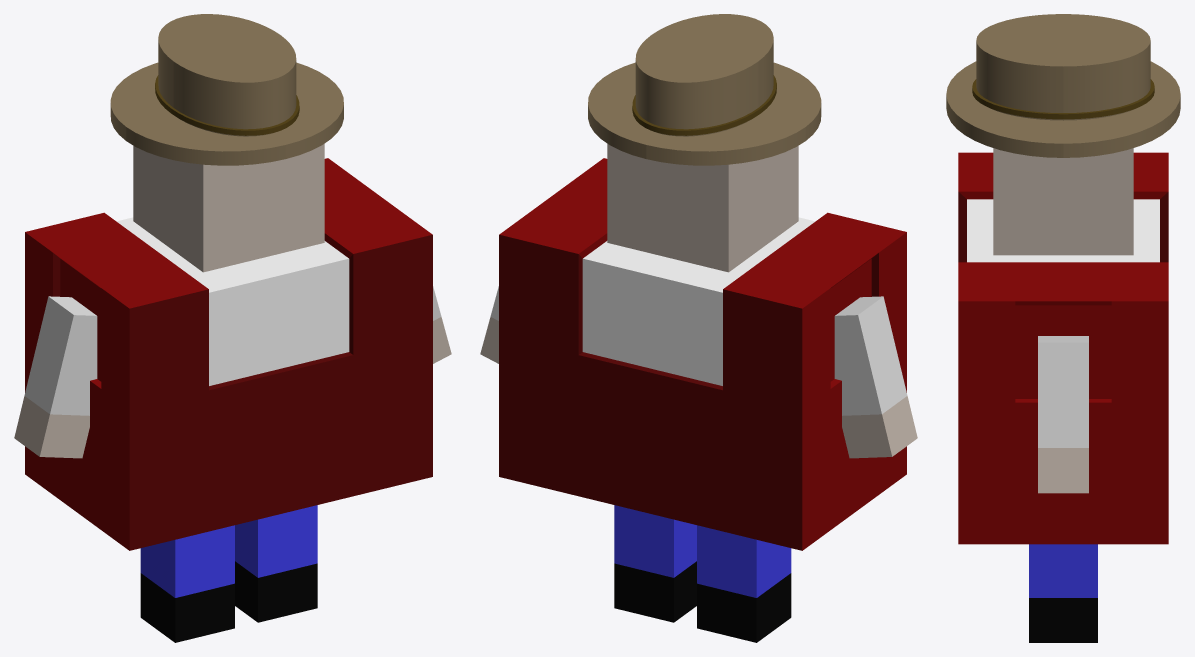
Rendered from Contadino.fbx.
3 views of the same model, side by side, from view 1: azimuth 30°, elevation 25°; view 2: azimuth 150°, elevation 25°; view 3: azimuth 270°, elevation 25° (orthographic).
Visible parts, largest first — view 1: Busto_Contadino, Cappello_Contadino, Testa_Contadino, Braccio_Destro_Contadino, Piede_Destro_Contadino, Piede_Sinistro_Contadino, Braccio_Sinistro_Contadino; view 2: Busto_Contadino, Cappello_Contadino, Testa_Contadino, Braccio_Destro_Contadino, Piede_Destro_Contadino, Piede_Sinistro_Contadino, Braccio_Sinistro_Contadino; view 3: Busto_Contadino, Cappello_Contadino, Testa_Contadino, Braccio_Sinistro_Contadino, Piede_Sinistro_Contadino.
Boxes of the visible parts, bbox=[...] form: Busto_Contadino: bbox=[25, 158, 432, 550]; Cappello_Contadino: bbox=[110, 14, 343, 165]; Testa_Contadino: bbox=[133, 144, 324, 272]; Braccio_Destro_Contadino: bbox=[14, 296, 97, 458]; Piede_Destro_Contadino: bbox=[140, 525, 234, 642]; Piede_Sinistro_Contadino: bbox=[235, 505, 317, 622]; Braccio_Sinistro_Contadino: bbox=[433, 286, 451, 363]; Busto_Contadino: bbox=[499, 158, 906, 550]; Cappello_Contadino: bbox=[588, 14, 821, 165]; Testa_Contadino: bbox=[607, 144, 798, 272]; Braccio_Destro_Contadino: bbox=[834, 296, 917, 458]; Piede_Destro_Contadino: bbox=[697, 525, 791, 642]; Piede_Sinistro_Contadino: bbox=[614, 505, 696, 622]; Braccio_Sinistro_Contadino: bbox=[480, 286, 498, 363]; Busto_Contadino: bbox=[958, 152, 1168, 544]; Cappello_Contadino: bbox=[946, 14, 1180, 157]; Testa_Contadino: bbox=[993, 148, 1133, 255]; Braccio_Sinistro_Contadino: bbox=[1038, 336, 1088, 493]; Piede_Sinistro_Contadino: bbox=[1029, 544, 1097, 642].
Size of the model in its own units: 3.4 by 4.45 by 1.67.
